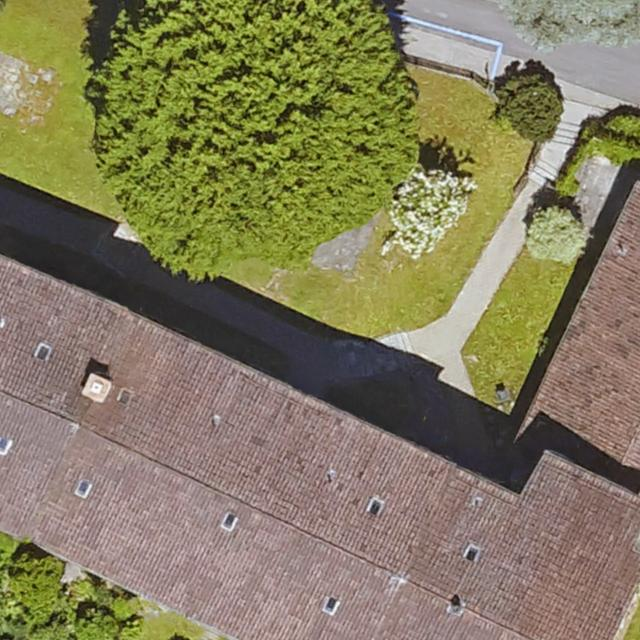tree: (95, 2, 415, 254), (400, 173, 471, 251), (497, 74, 561, 137), (526, 206, 583, 262)
